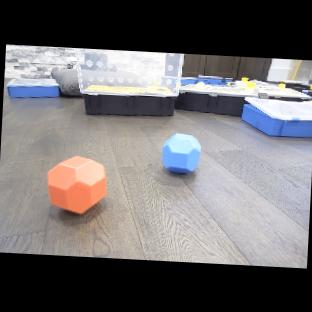V5_BLUE: (161, 131, 202, 175)
V5_RED: (44, 154, 109, 217)
